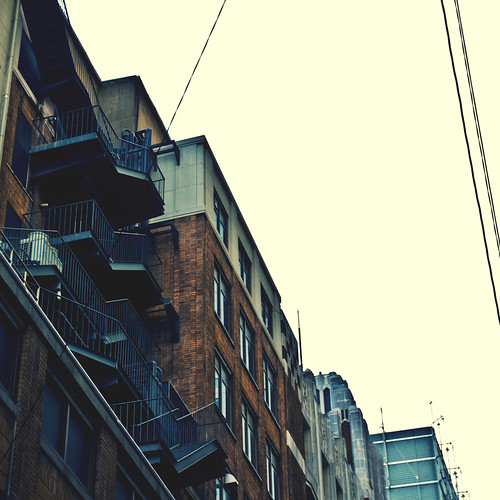building: (1, 35, 327, 500), (306, 386, 450, 500)
sky: (171, 1, 500, 445)
